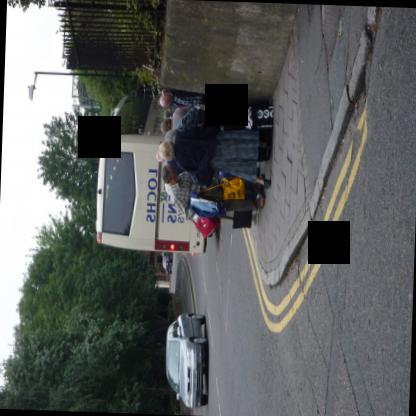handbag: (174, 157, 215, 187), (203, 175, 245, 199), (191, 215, 221, 238), (224, 207, 252, 228), (194, 107, 221, 128)
suitcase: (223, 102, 269, 130)
